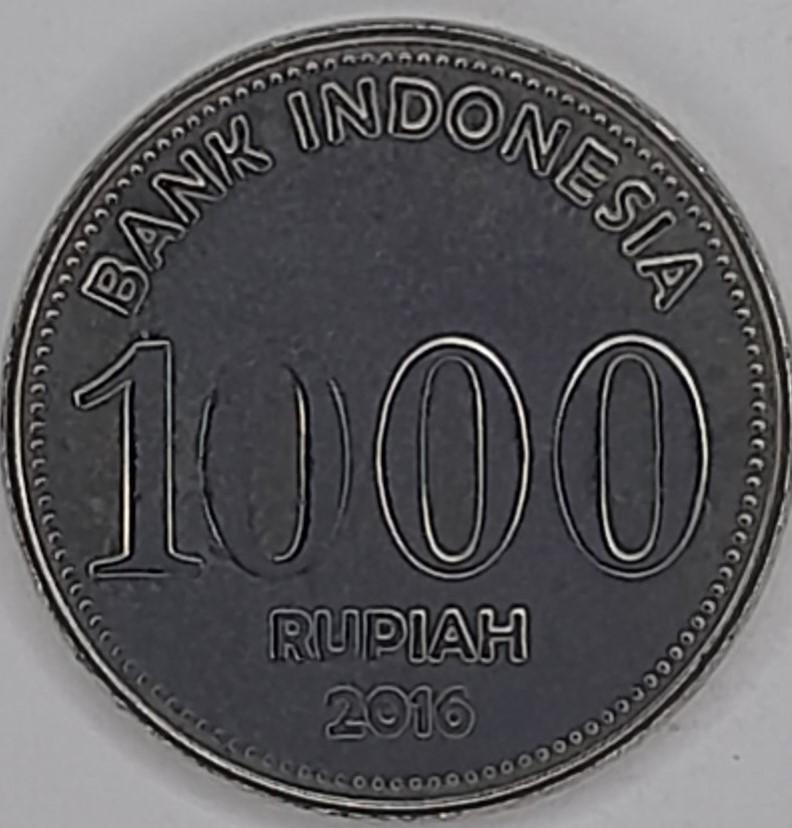coin_1000_e2016: (13, 16, 781, 828)
